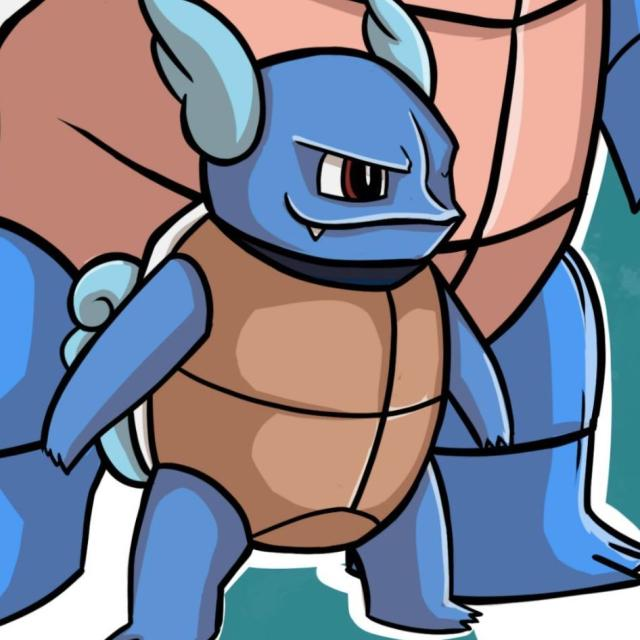Wartortle: (76, 3, 500, 640)
